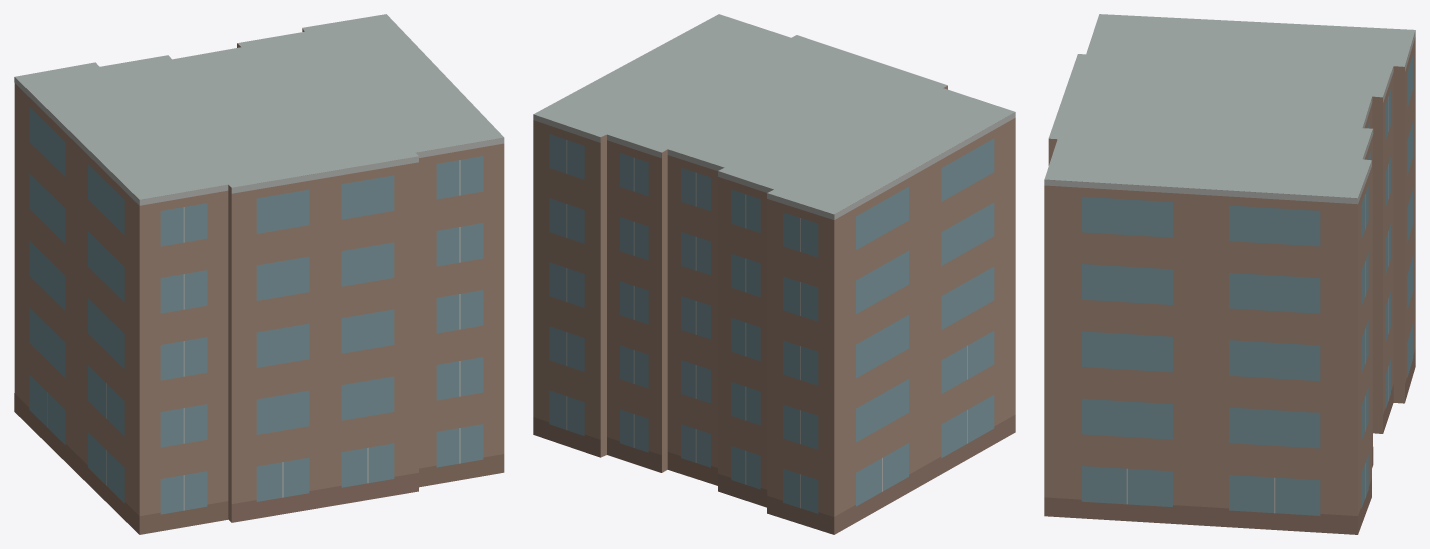
The model's file is survey-upis-32979282.glb.
3 renders of one model, left to right at view 1: azimuth 30°, elevation 25°; view 2: azimuth 150°, elevation 25°; view 3: azimuth 270°, elevation 25°, orthographic. The views are drawn at different scales.
Parts seen in each view (by area): view 1: survey-upis-32979282.tmp; view 2: survey-upis-32979282.tmp; view 3: survey-upis-32979282.tmp.
Part boxes in pixels (bbox=[...]): survey-upis-32979282.tmp: bbox=[14, 14, 504, 534]; survey-upis-32979282.tmp: bbox=[533, 14, 1015, 534]; survey-upis-32979282.tmp: bbox=[1044, 14, 1415, 534].
Bounding box in the file's own units: 16.08 × 13.7 × 13.7.
